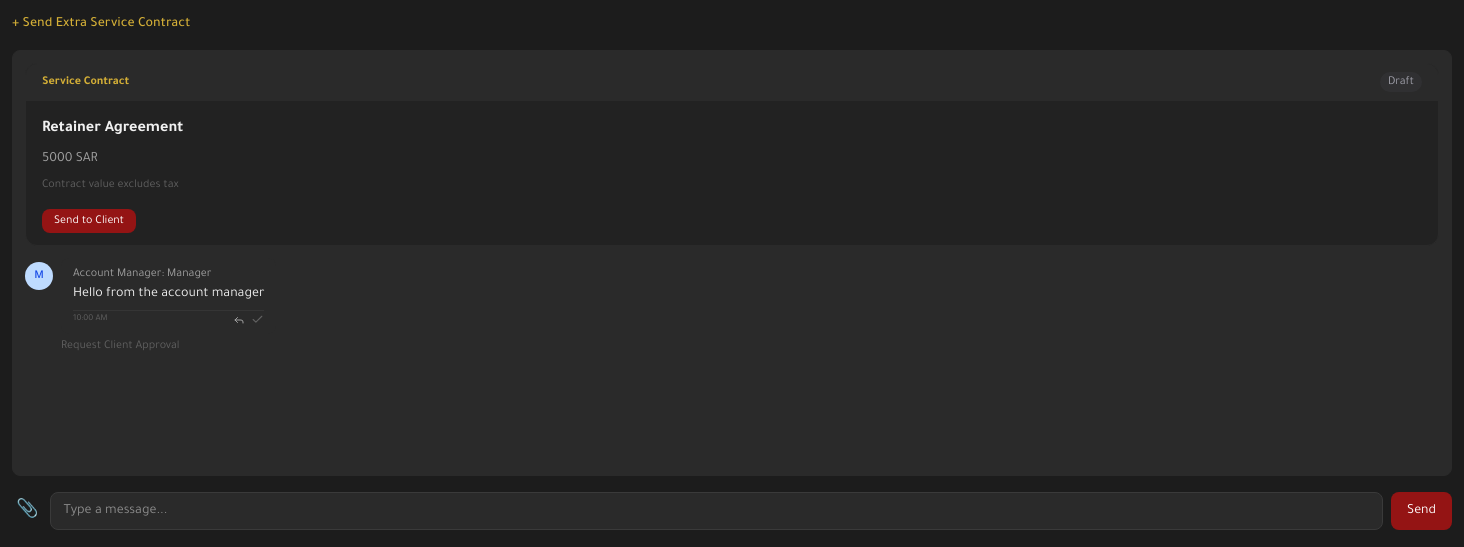
ChatTab (characterization) › sends a draft contract to the client from the contract card
The image size is (1464, 547).
Click the button "Send to Client" at point(89, 221), box [42,209,136,233]
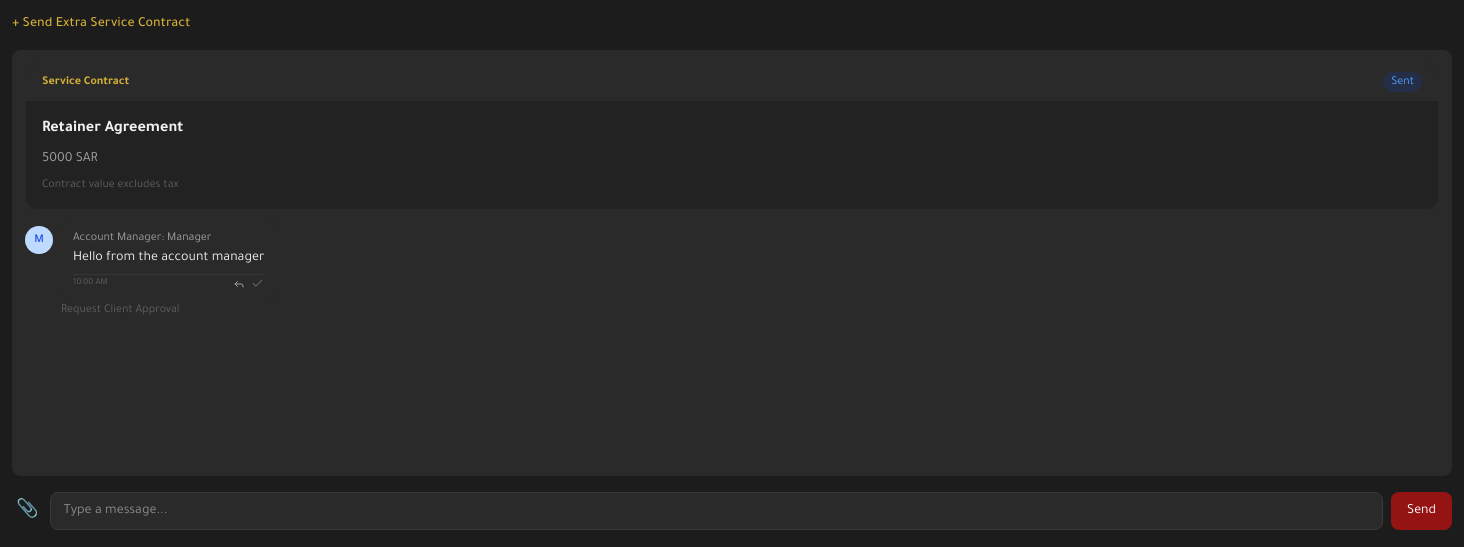
Now the button "Send to Client" is gone
